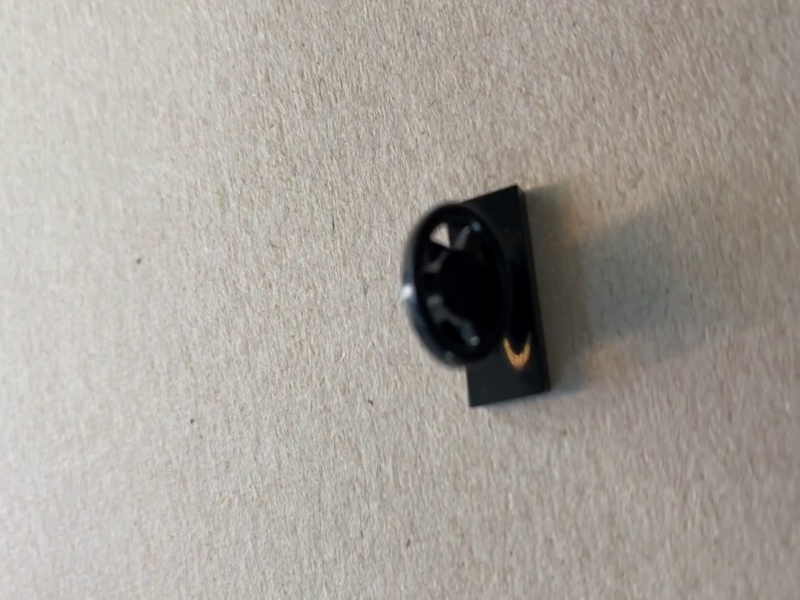steering wheel: (400, 184, 556, 409)
